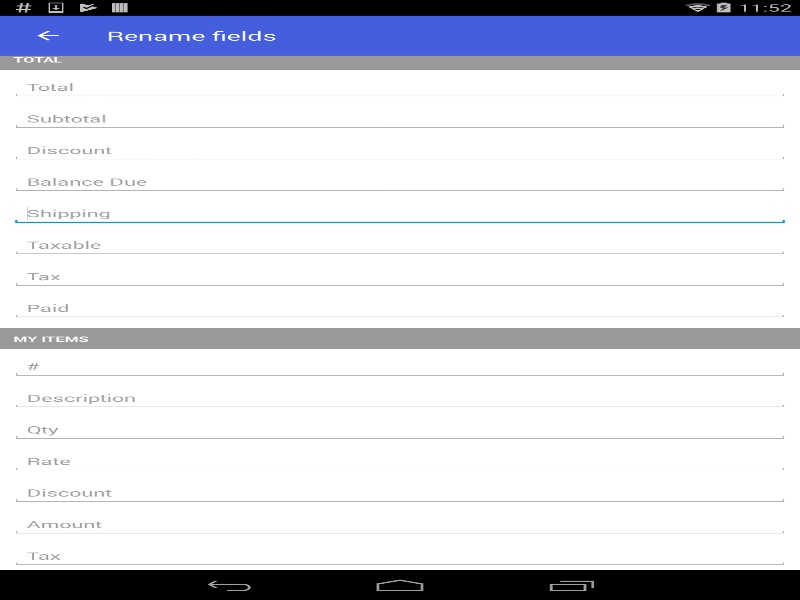Button: (10, 15, 85, 55)
Input: (10, 75, 789, 98), (10, 107, 789, 130), (10, 170, 789, 193), (10, 202, 789, 225), (10, 233, 789, 256), (10, 265, 789, 288), (10, 296, 789, 319), (10, 355, 789, 378), (10, 386, 789, 409), (10, 418, 789, 441), (10, 481, 789, 504), (10, 544, 789, 567), (10, 139, 789, 161), (10, 450, 789, 472), (10, 513, 789, 535)
